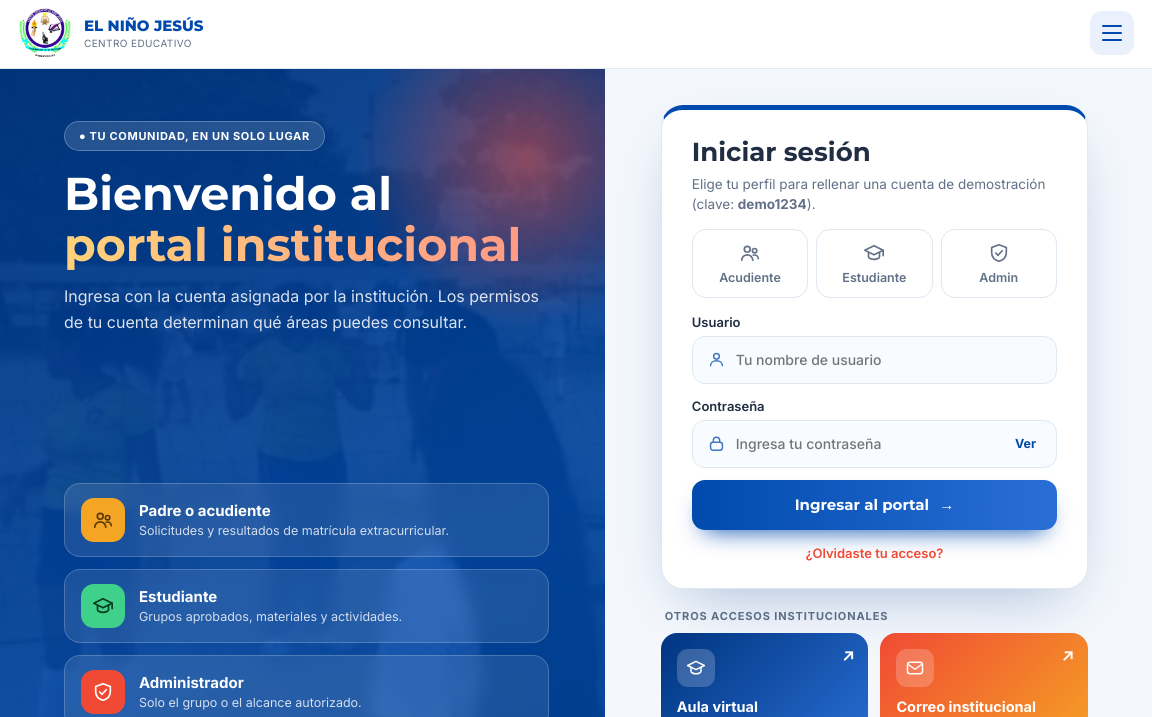
Scenario: aplicación en modo demostración › un acudiente inicia sesión y ve su matrícula extracurricular
This screenshot has width=1152, height=717.
Click the tab "Acudiente": (750,263) [692,228,808,298]
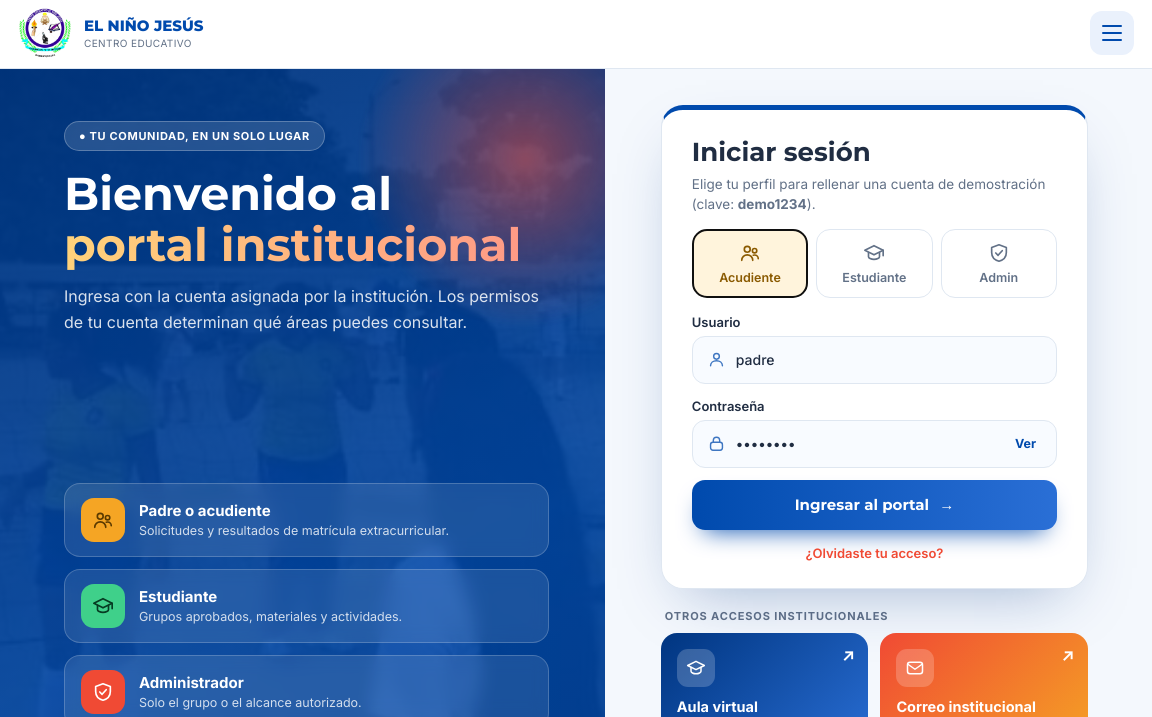
Click the button "Ingresar al portal →": (874,504) [692,480,1057,530]
(page scrolled)
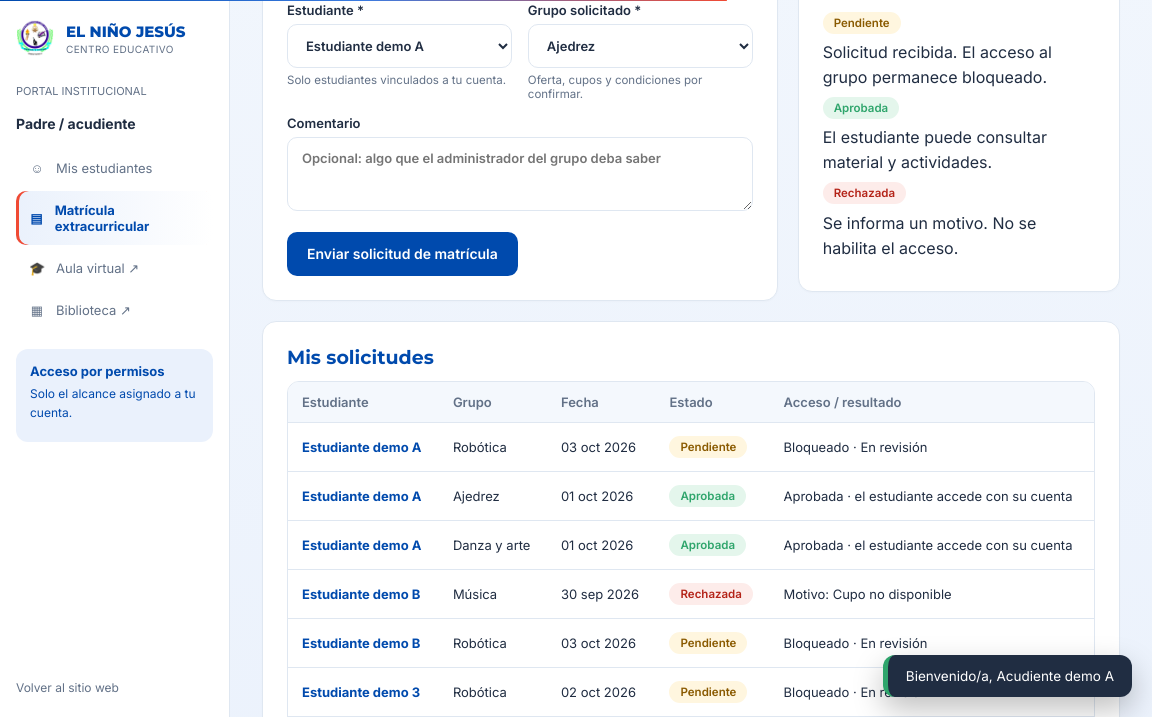
Expected: the heading "Mis solicitudes" is shown, [287,346,434,369]
